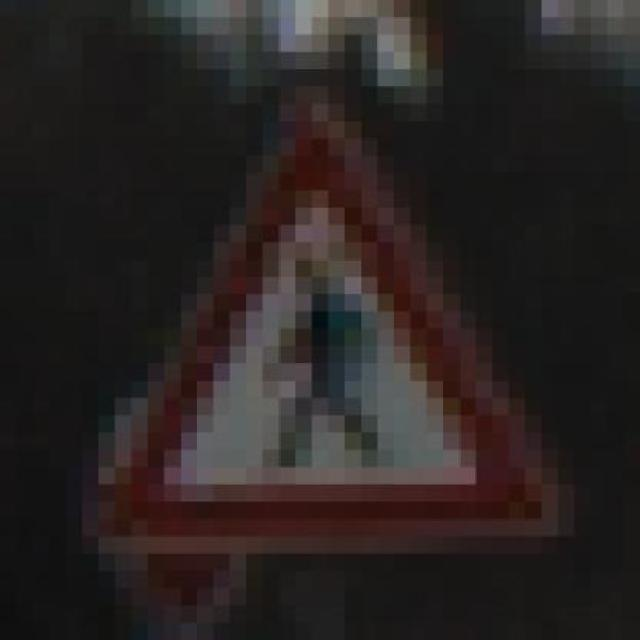Pedestrian Crossing: (65, 86, 558, 554)
